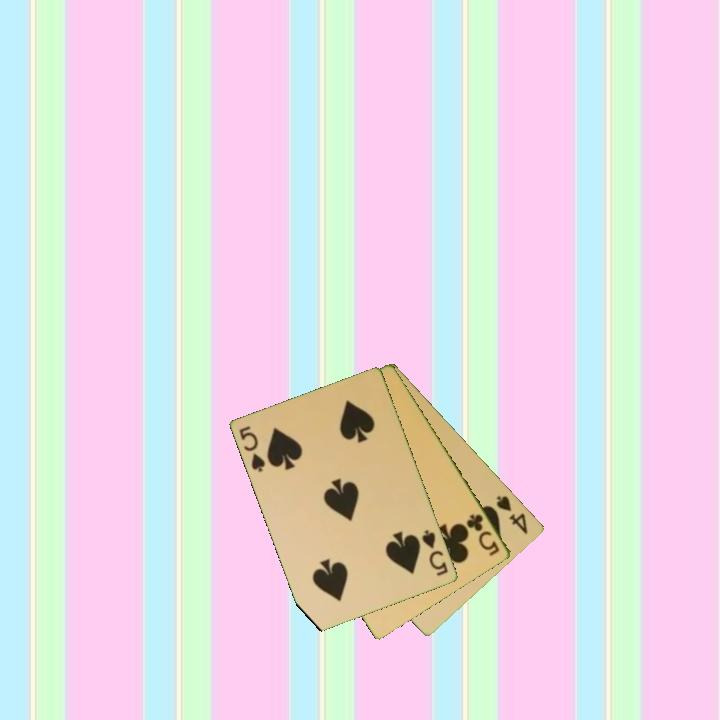4s: (493, 492, 531, 537)
5c: (463, 510, 503, 559)
5s: (236, 423, 269, 475), (419, 526, 451, 579)
